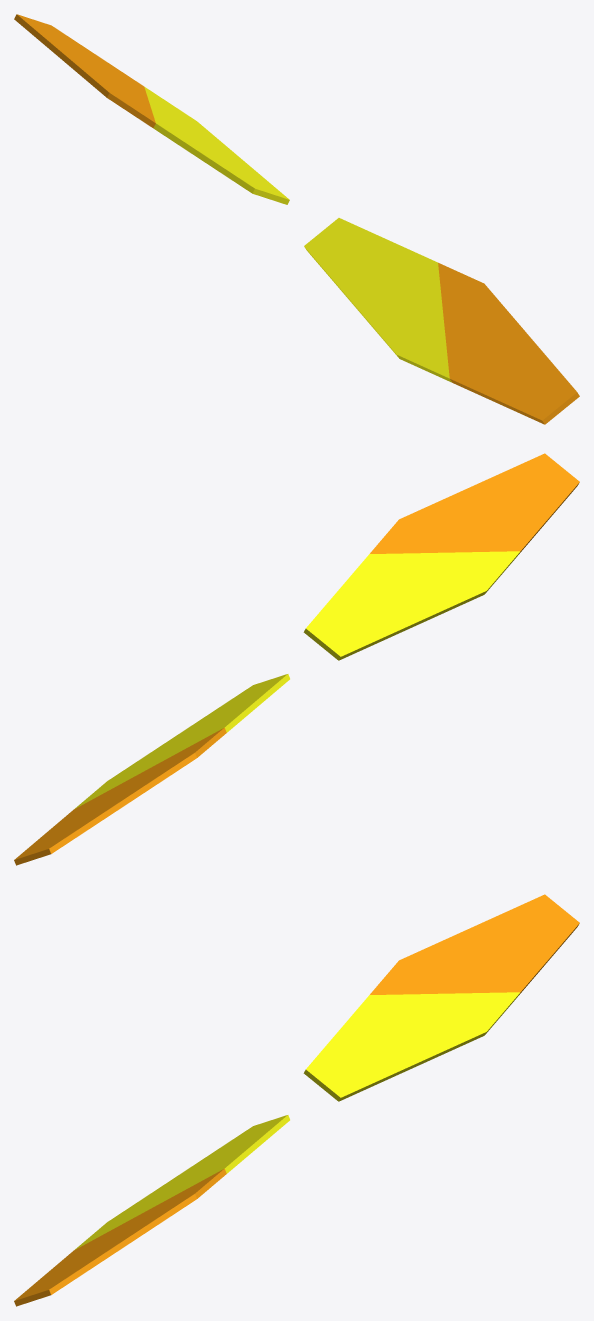
Rendered from wing.gltf.
3 views of the same model, one above another, from view 1: azimuth 30°, elevation 25°; view 2: azimuth 150°, elevation 25°; view 3: azimuth 330°, elevation 25° (orthographic).
Visible parts, largest first — view 1: wings.004; view 2: wings.004; view 3: wings.004.
Boxes of the visible parts, left/top/right/bottom form: wings.004: left=14, top=14, right=579, bottom=424; wings.004: left=14, top=453, right=579, bottom=865; wings.004: left=14, top=894, right=579, bottom=1306.
Size of the model in its own units: 0.2994 by 0.1721 by 3.02.
